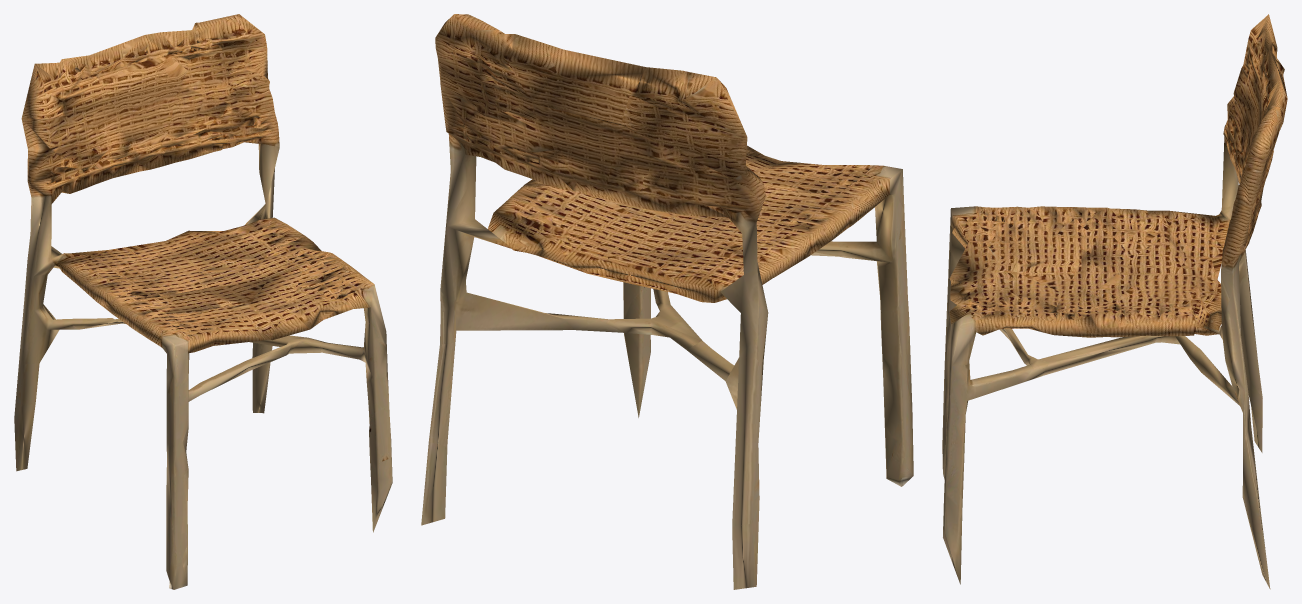
Rendered from cafechair_lod1.glb.
3 views of the same model, side by side, from view 1: azimuth 30°, elevation 25°; view 2: azimuth 150°, elevation 25°; view 3: azimuth 270°, elevation 25° (orthographic). The views are drawn at different scales.
Parts seen in each view (by area): view 1: tripo_node_31f12766-8293-424b-b3c6-709b9bef3fed; view 2: tripo_node_31f12766-8293-424b-b3c6-709b9bef3fed; view 3: tripo_node_31f12766-8293-424b-b3c6-709b9bef3fed.
Boxes of the visible parts, left/top/right/bottom form: tripo_node_31f12766-8293-424b-b3c6-709b9bef3fed: left=14, top=14, right=392, bottom=589; tripo_node_31f12766-8293-424b-b3c6-709b9bef3fed: left=421, top=14, right=913, bottom=589; tripo_node_31f12766-8293-424b-b3c6-709b9bef3fed: left=942, top=14, right=1287, bottom=589.
Size of the model in its own units: 0.5376 by 0.8482 by 0.5672.
1 material, 1 textured.
